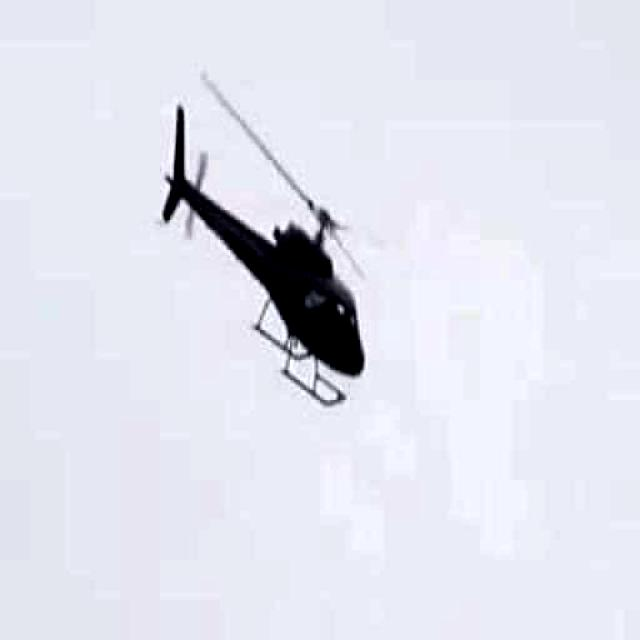drone: (130, 88, 416, 441)
